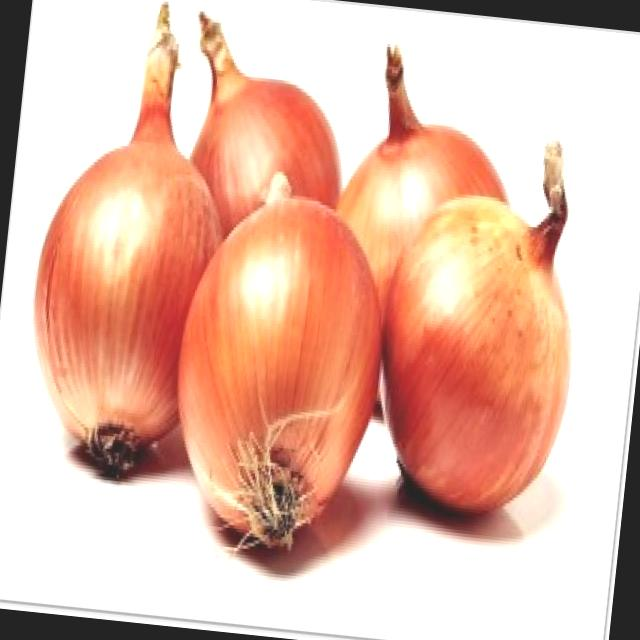onion: (175, 158, 400, 573), (370, 186, 600, 540), (5, 117, 198, 477), (341, 57, 542, 282), (186, 28, 341, 225)
